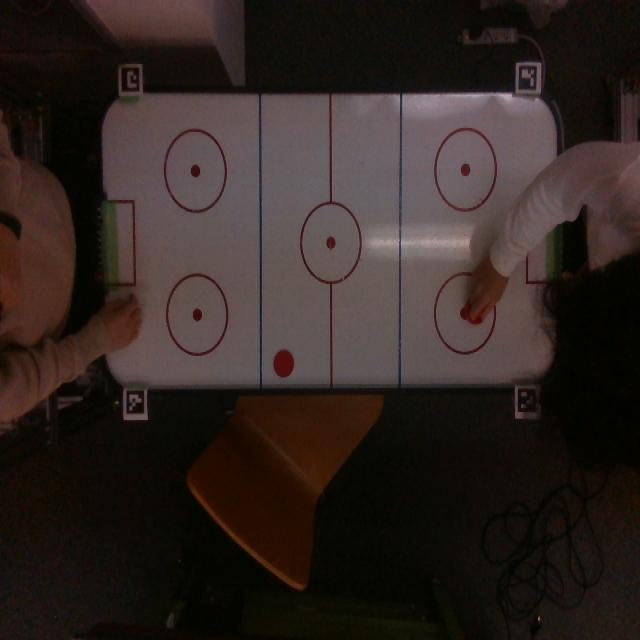puck: (274, 349, 294, 377)
